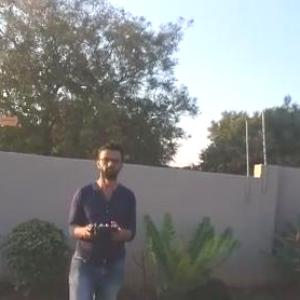follow: (58, 134, 142, 299)
